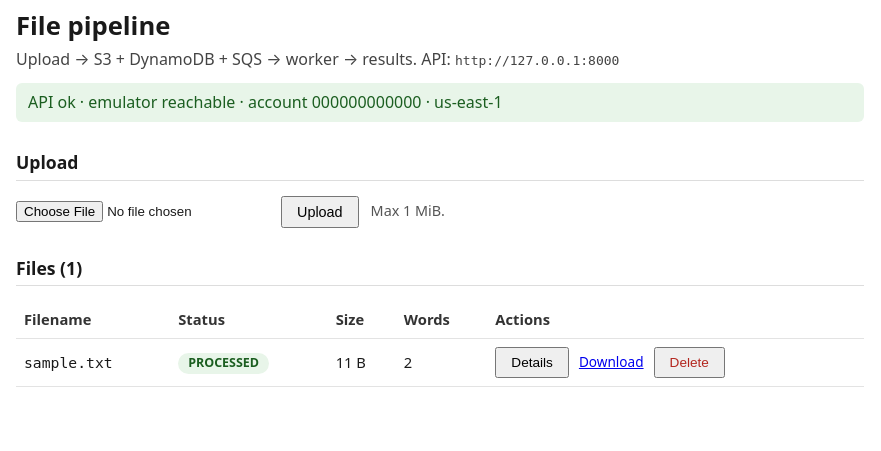
Scenario: oversize file is rejected with a message, page intact
Earlier steps of the test are not shown.
Expected: the text "sample.txt" is shown, [16, 338, 170, 386]
Click the button "Upload": click(320, 212) [281, 196, 359, 228]
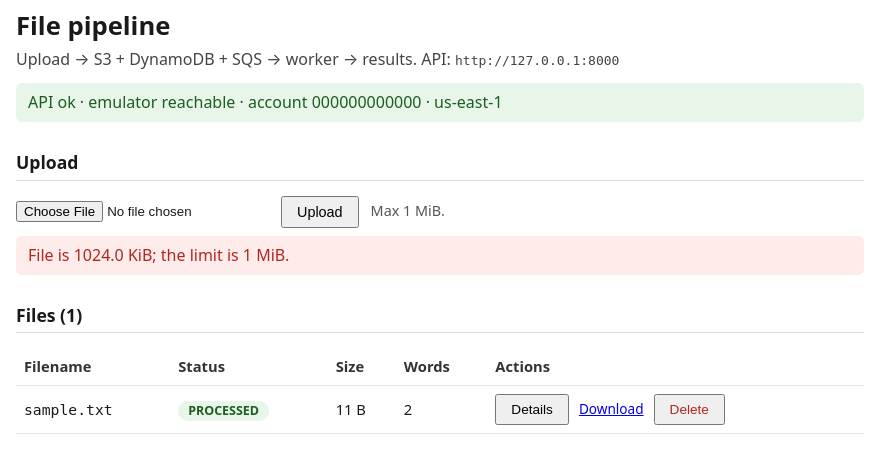
Expected: the text "File is 1024.0 KiB; the limit is 1 MiB." is shown, [16, 236, 864, 275]
